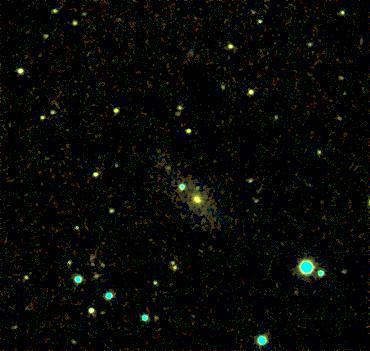star: (183, 170, 213, 200)
